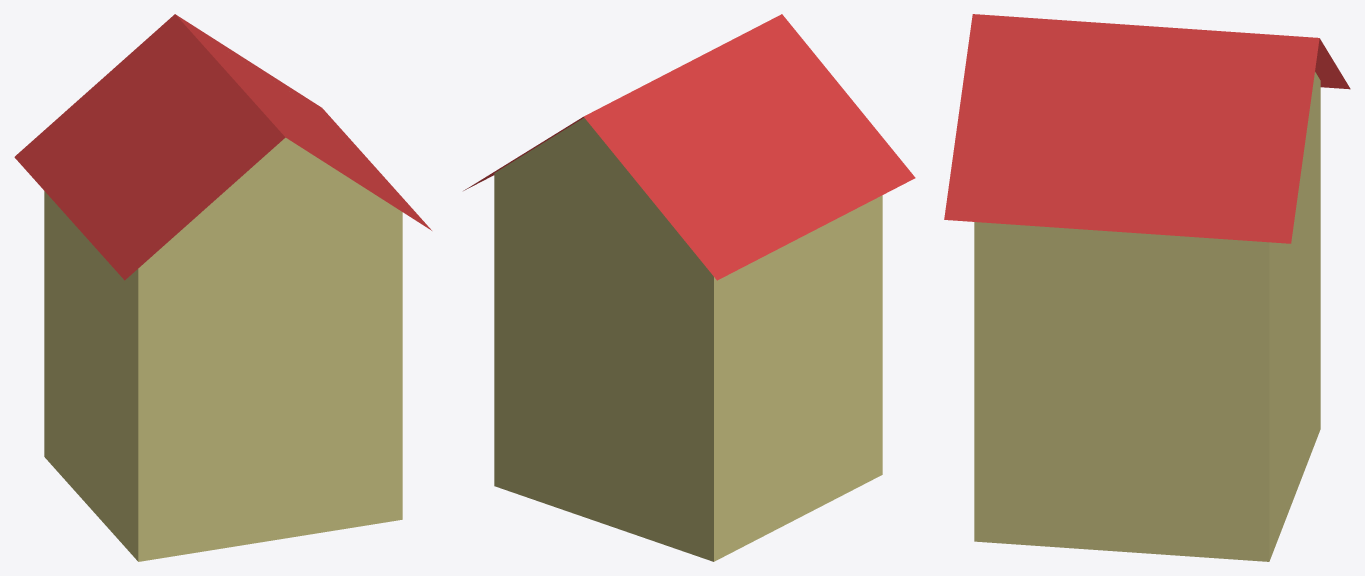
The picture shows the model from 3 angles, left to right: view 1: azimuth 30°, elevation 25°; view 2: azimuth 150°, elevation 25°; view 3: azimuth 270°, elevation 25°; orthographic projection. The views are drawn at different scales.
Size of the model in its own units: 8.02 by 7.72 by 9.7.
